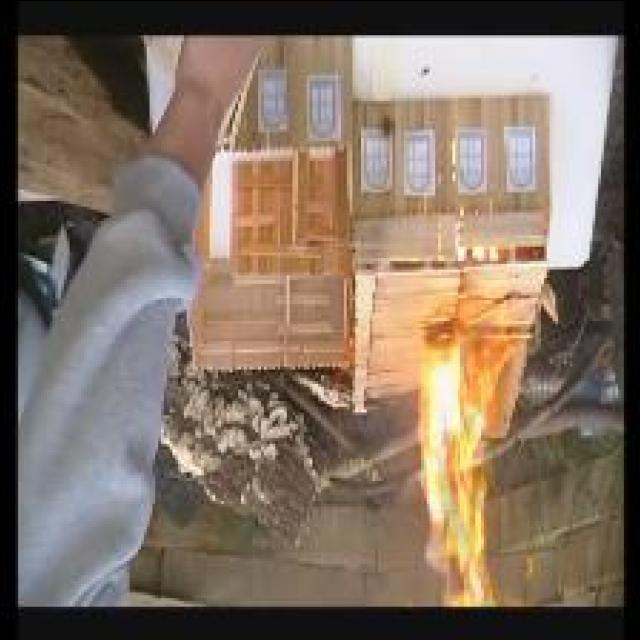Fire: (420, 299, 526, 607)
